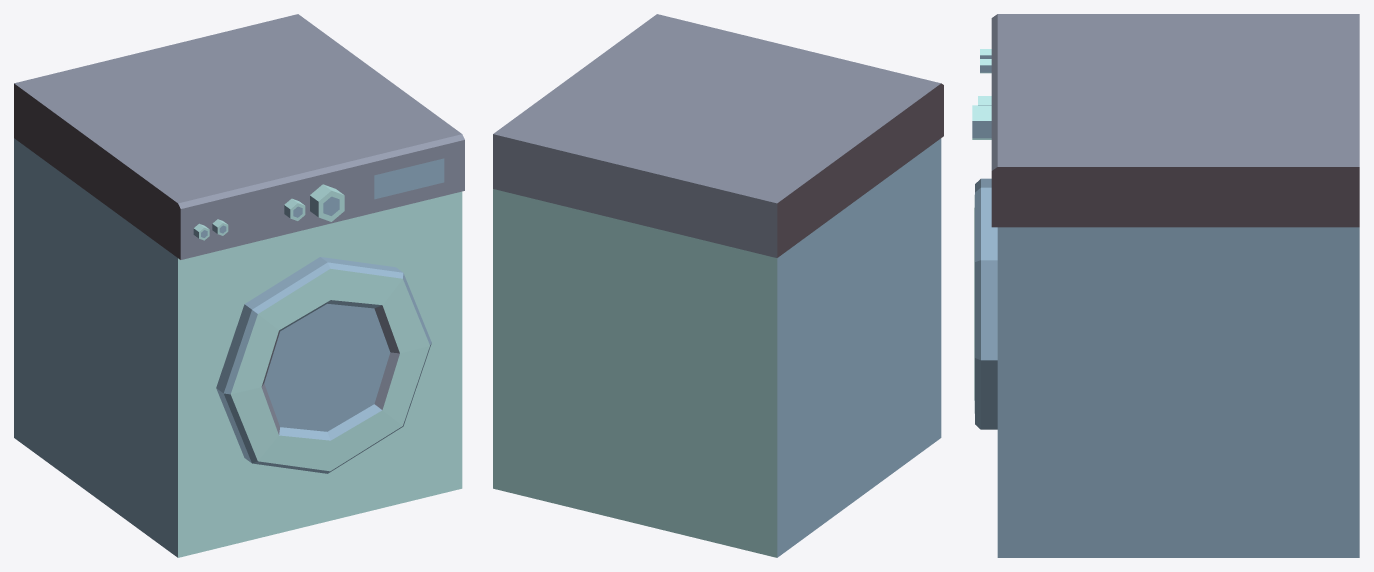
File: Dryer.fbx
The picture shows the model from 3 angles, left to right: view 1: azimuth 30°, elevation 25°; view 2: azimuth 150°, elevation 25°; view 3: azimuth 270°, elevation 25°; orthographic projection. The views are drawn at different scales.
Visible parts, largest first — view 1: Dryer; view 2: Dryer; view 3: Dryer.
Boxes of the visible parts, bbox=[...] form: Dryer: bbox=[14, 14, 464, 557]; Dryer: bbox=[493, 14, 943, 557]; Dryer: bbox=[972, 14, 1359, 557].
Bounding box in the file's own units: 200 × 238 × 214.
